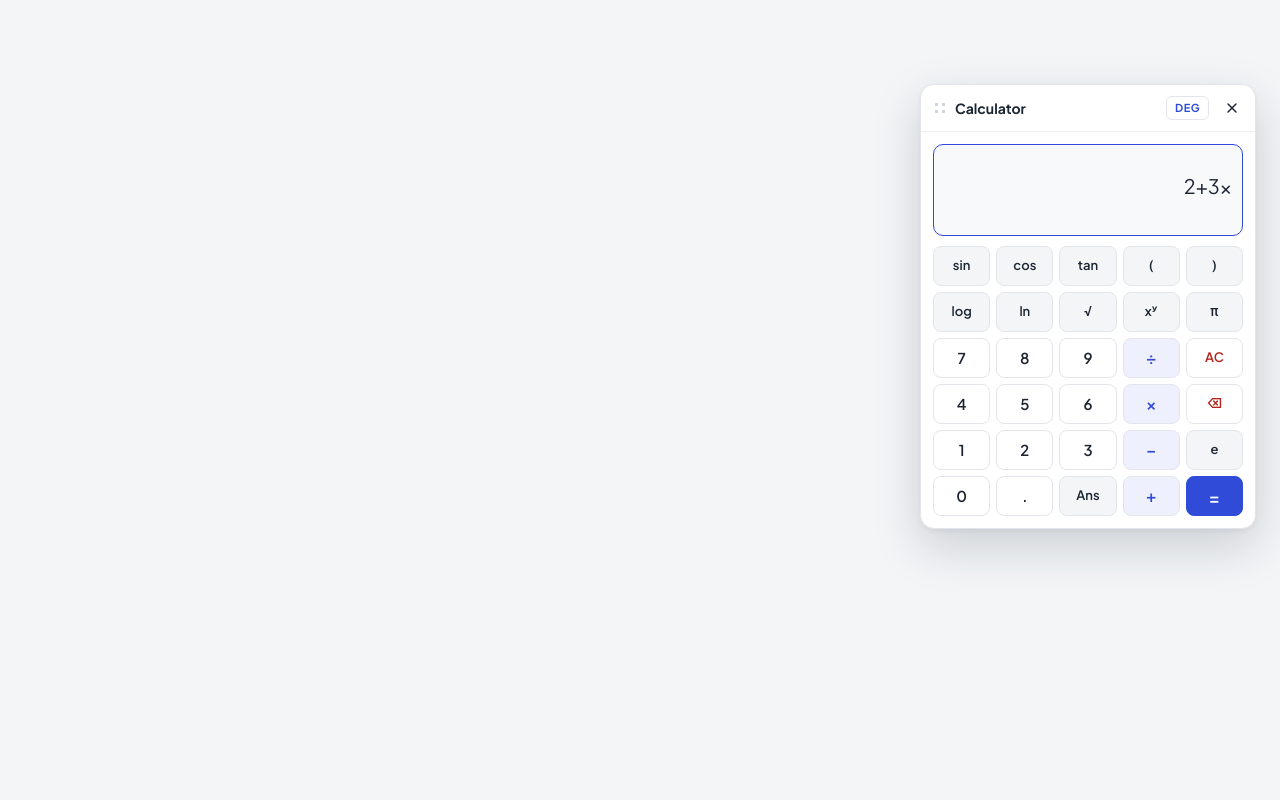
Test: calculator panel › works with the keys: order of operations, AC, backspace
Earlier steps of the test are not shown.
Later steps or results of the test are not shown.
Click the button "4": (962, 404) [933, 384, 990, 424]
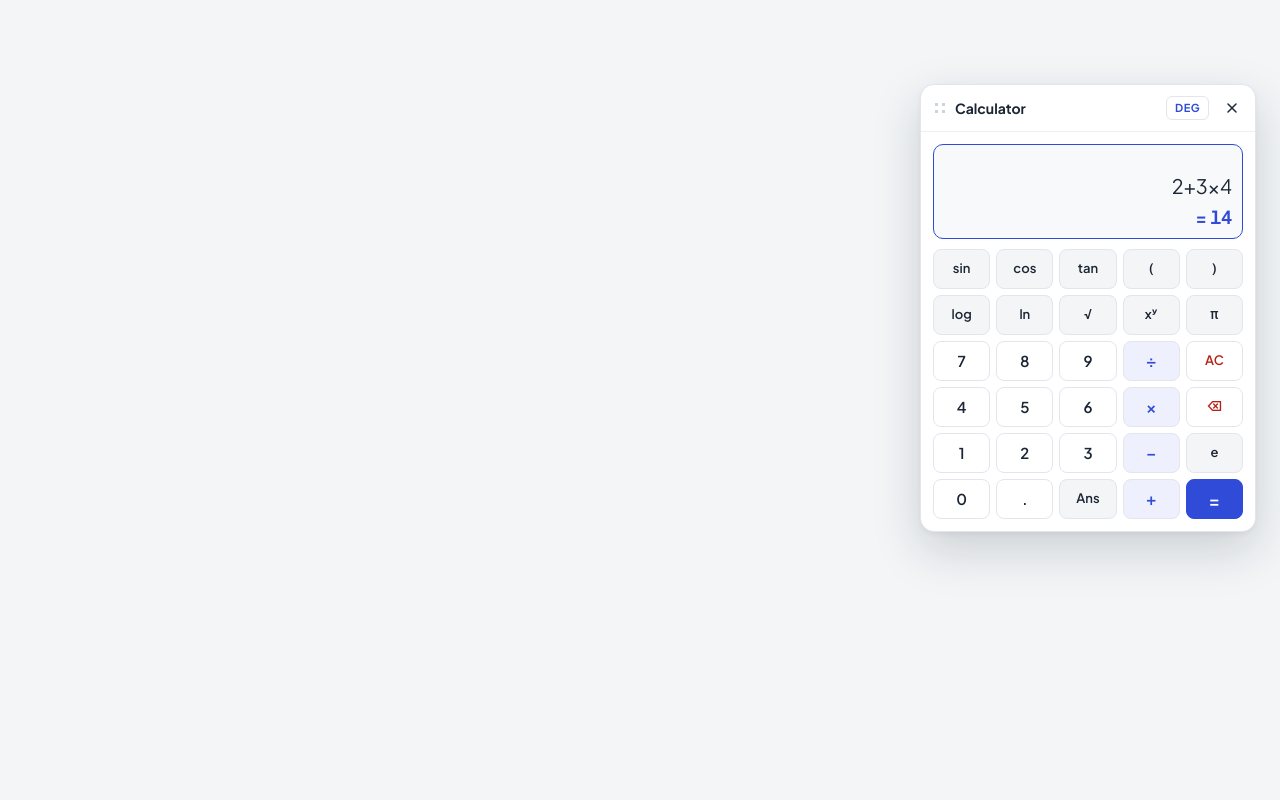
expect the field named "Expression" holds "2+3×4": met, box [944, 171, 1232, 201]
expect the text with test id "calc-result" reads "= 14": met, box [1195, 205, 1232, 228]
Click the button named "Equals": (1214, 499) [1186, 479, 1243, 519]
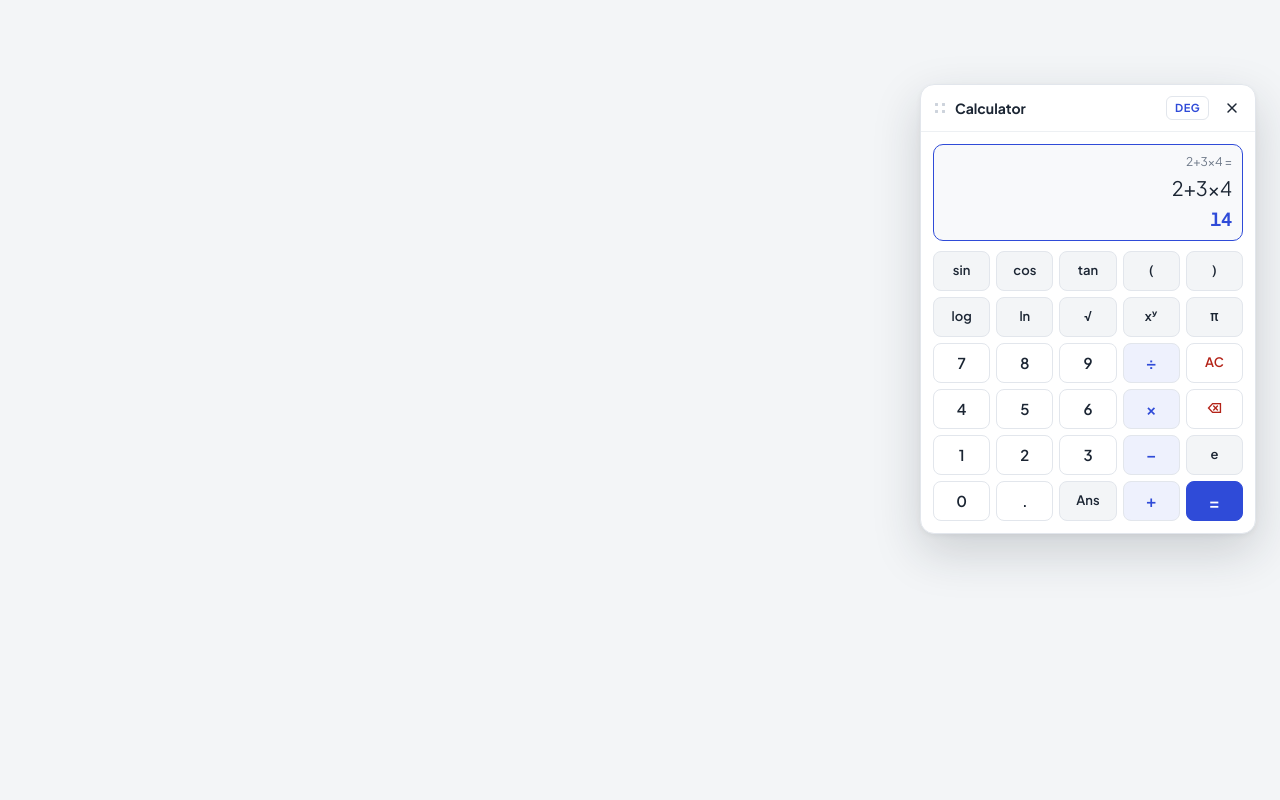
expect the text with test id "calc-result" reads "14": met, box [1210, 207, 1232, 230]
expect the text "2+3×4 =" is shown: met, box [1186, 154, 1232, 169]
Click the button named "Plus": (1151, 501) [1123, 481, 1180, 521]
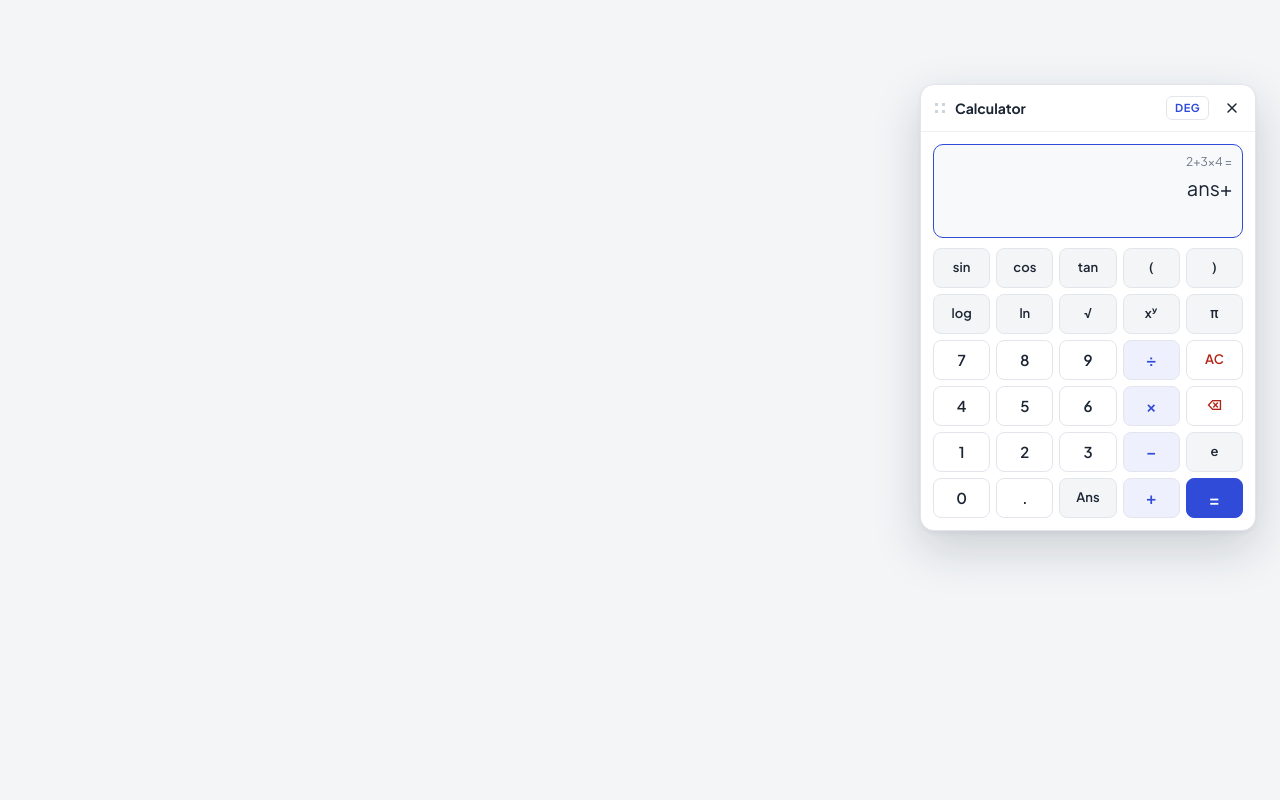
expect the field named "Expression" holds "ans+": met, box [944, 173, 1232, 203]
Click the button "1": (962, 452) [933, 432, 990, 472]
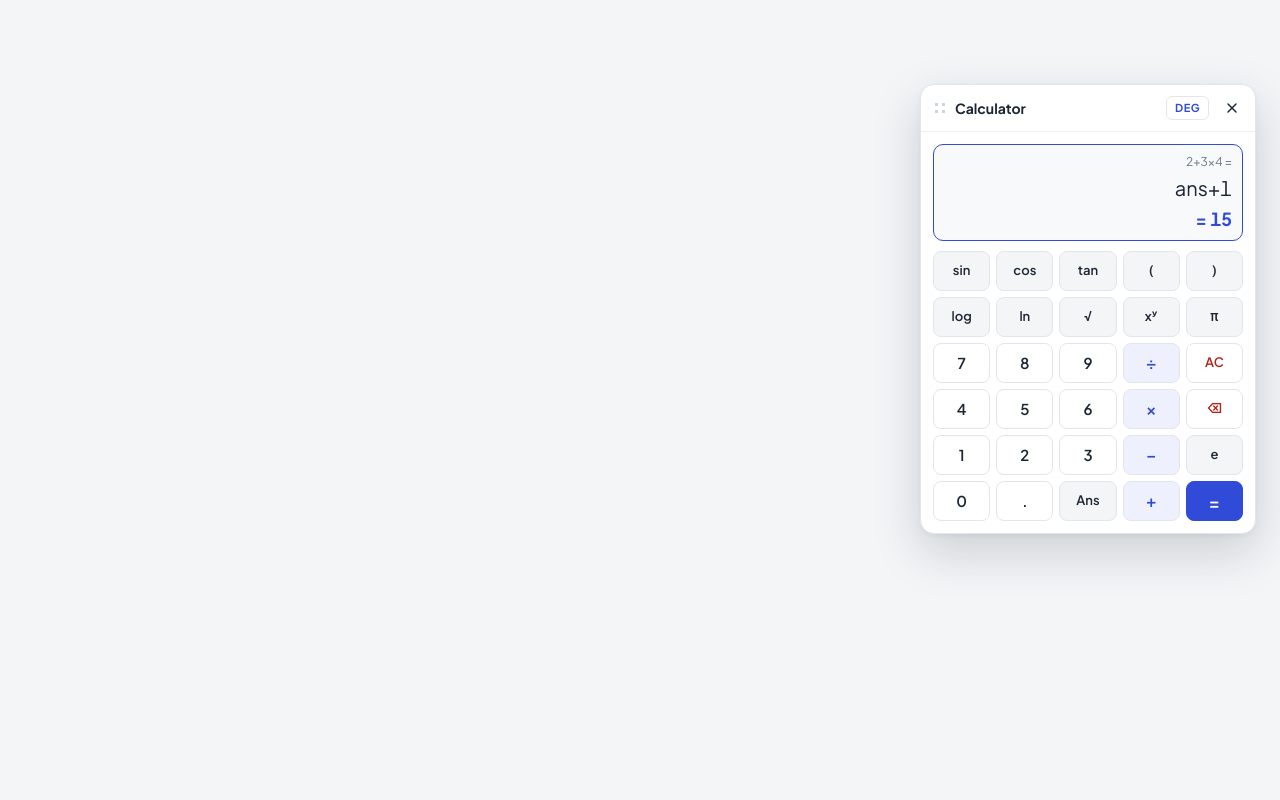
Click the button named "Equals": (1214, 501) [1186, 481, 1243, 521]
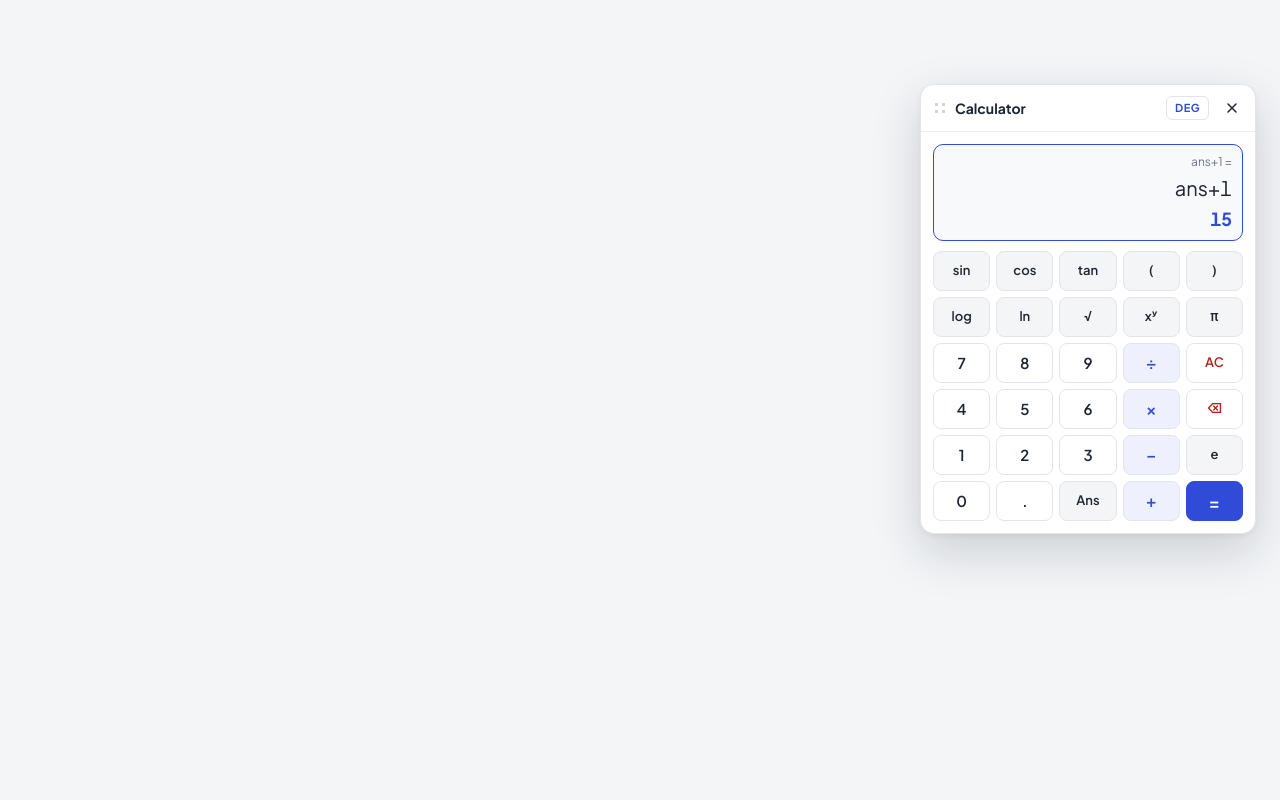
expect the text with test id "calc-result" reads "15": met, box [1210, 207, 1232, 230]
Click the button "7": (962, 363) [933, 343, 990, 383]
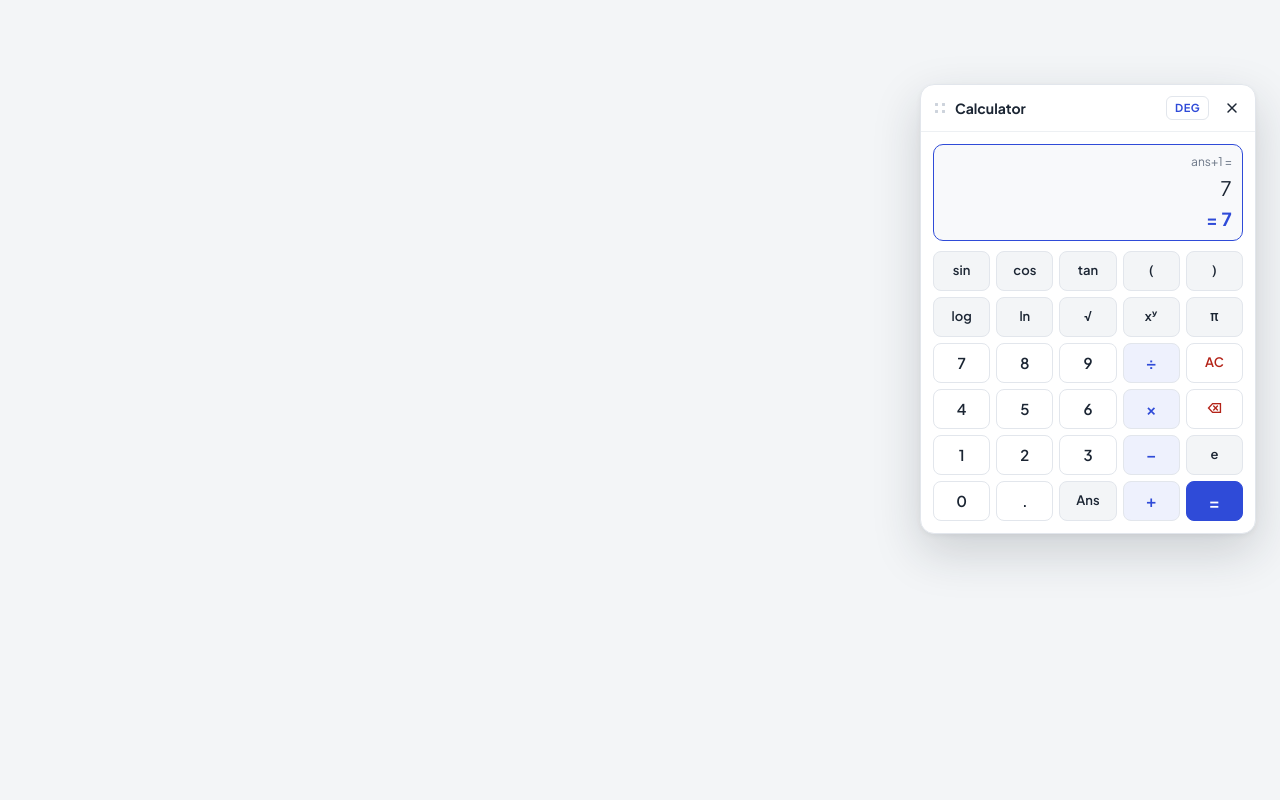
expect the field named "Expression" holds "7": met, box [944, 173, 1232, 203]
